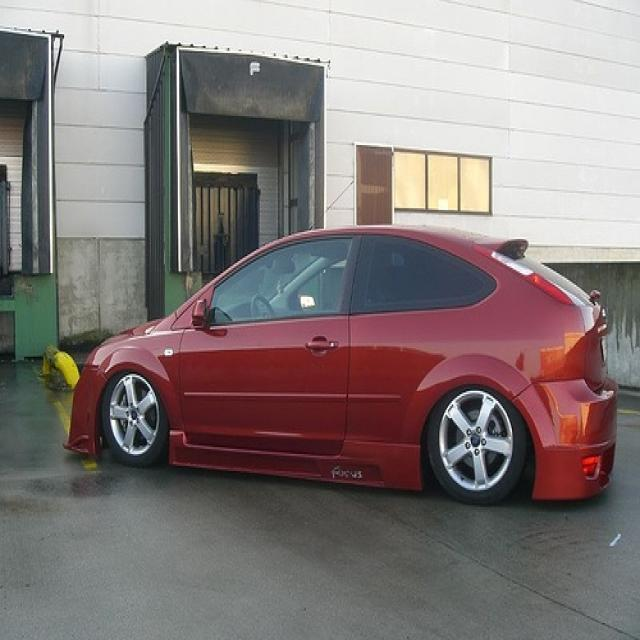car: (61, 222, 617, 505)
